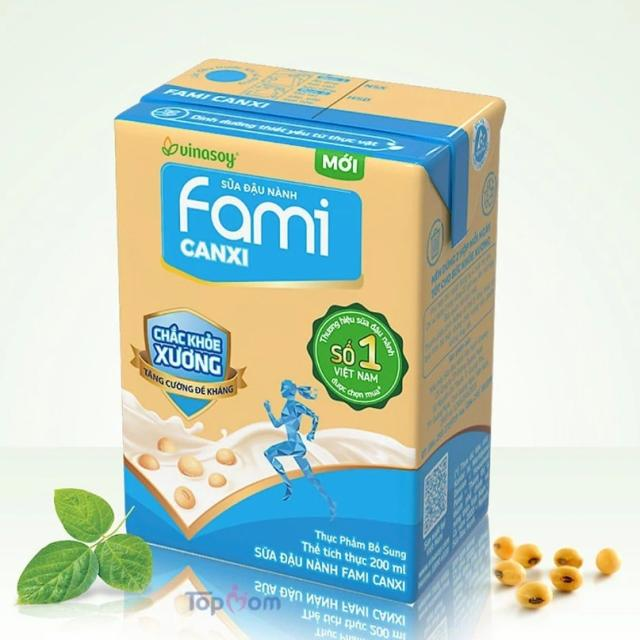Fami: (122, 51, 504, 602)
